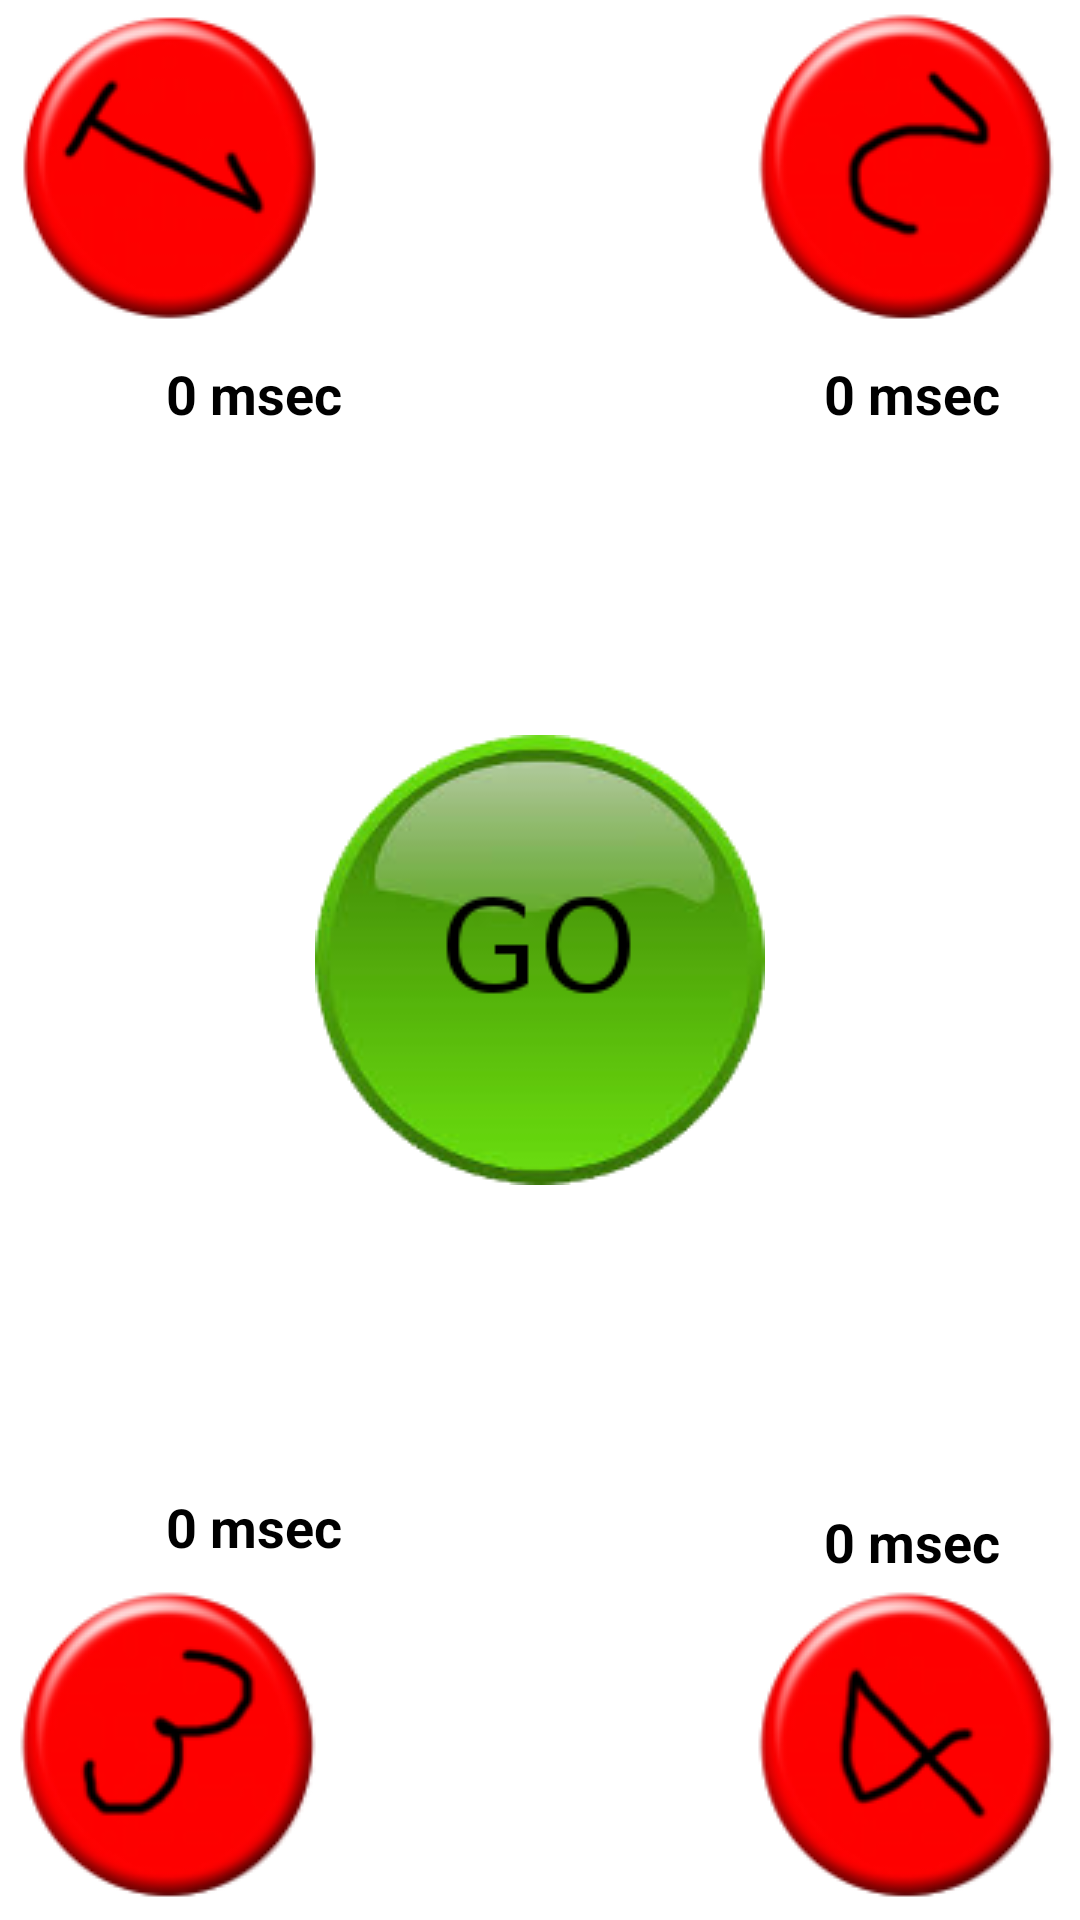

Icons on this 1080 × 1920 Android screen, each with the point to tap as (x=x, y=y):
Player 1: (x=169, y=168)
Player 2: (x=906, y=166)
Player 3: (x=168, y=1744)
Player 4: (x=906, y=1744)
